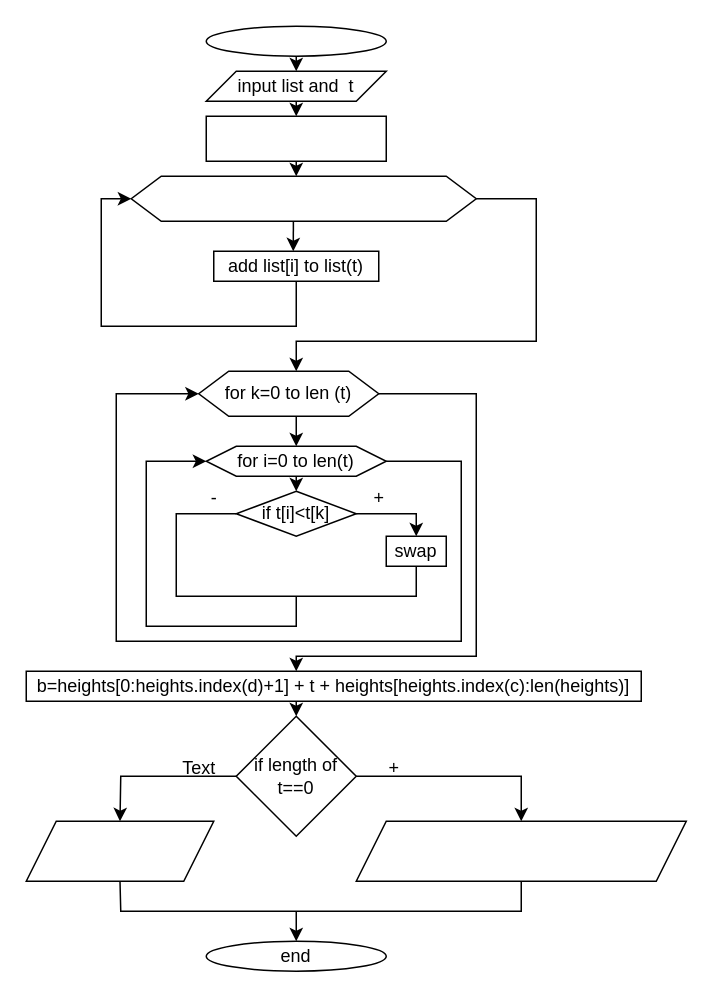
The diagram is 713 pixels wide and 998 high, and some of its shapes have lost their labels. Each missing label, with the centre of its shape:
"begin" goes at (295,40).
"c=max number d=min number" goes at (295,138).
"for i =index of min no. to index of max no." goes at (303,198).
"no numbers between Amax and Amin" goes at (520,850).
"output b" goes at (119,850).
